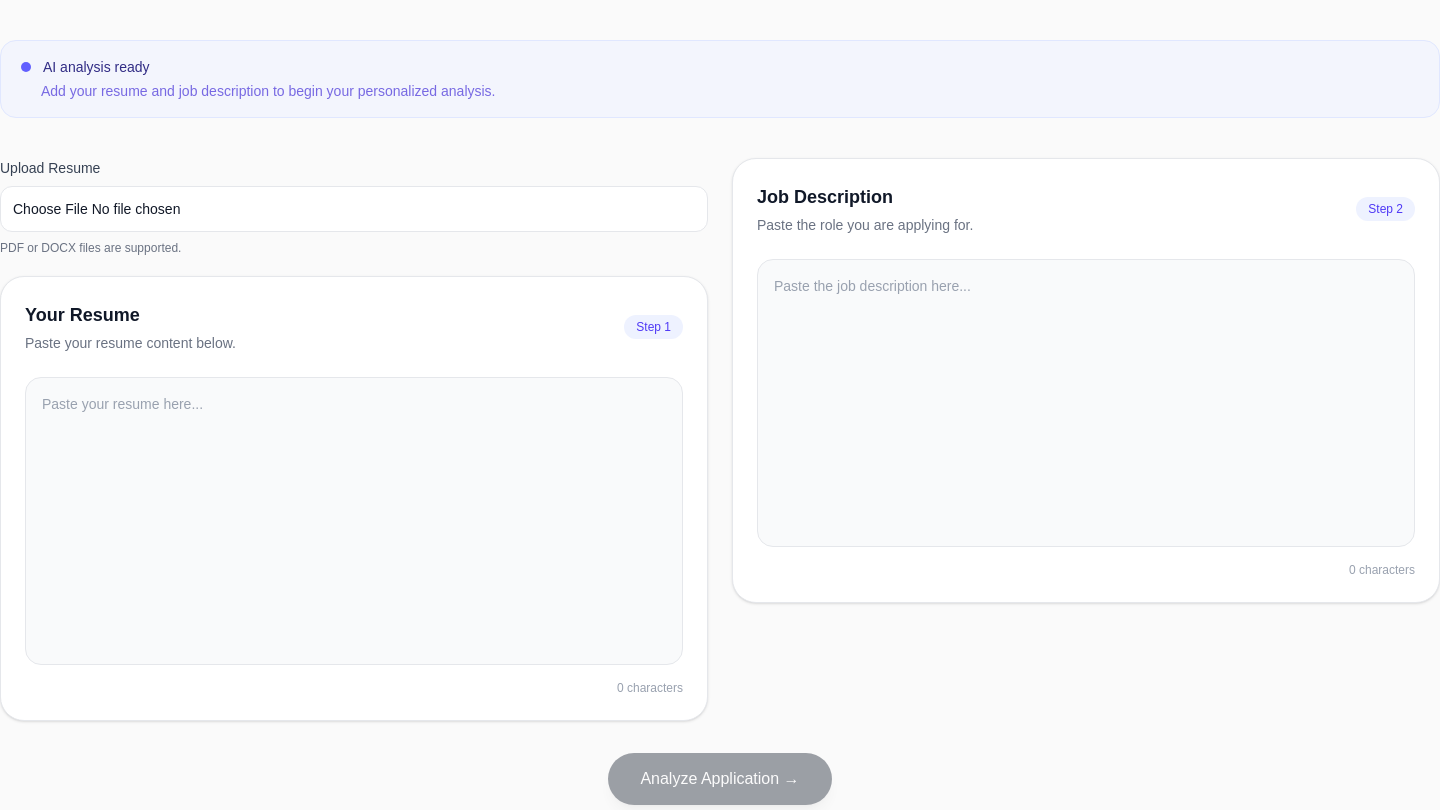
Test: ApplicationForm › shows AI analysis results after successful API response
In the text box with placeholder "Paste your resume here...": (354, 521) [25,377,683,665], type "React developer with TypeScript experience."
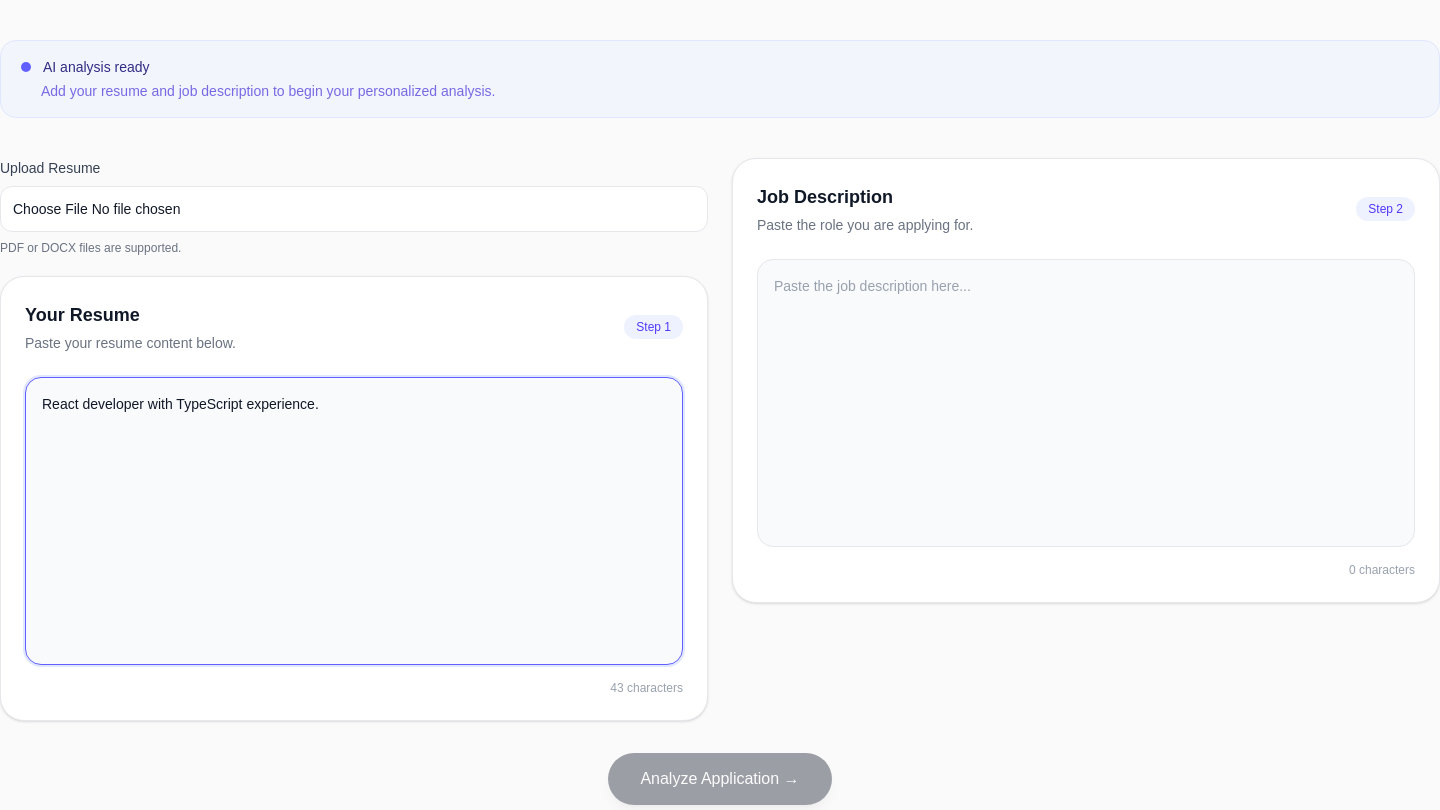
In the text box with placeholder "Paste the job description here...": (1086, 403) [757,259,1415,547], type "Looking for a React developer."
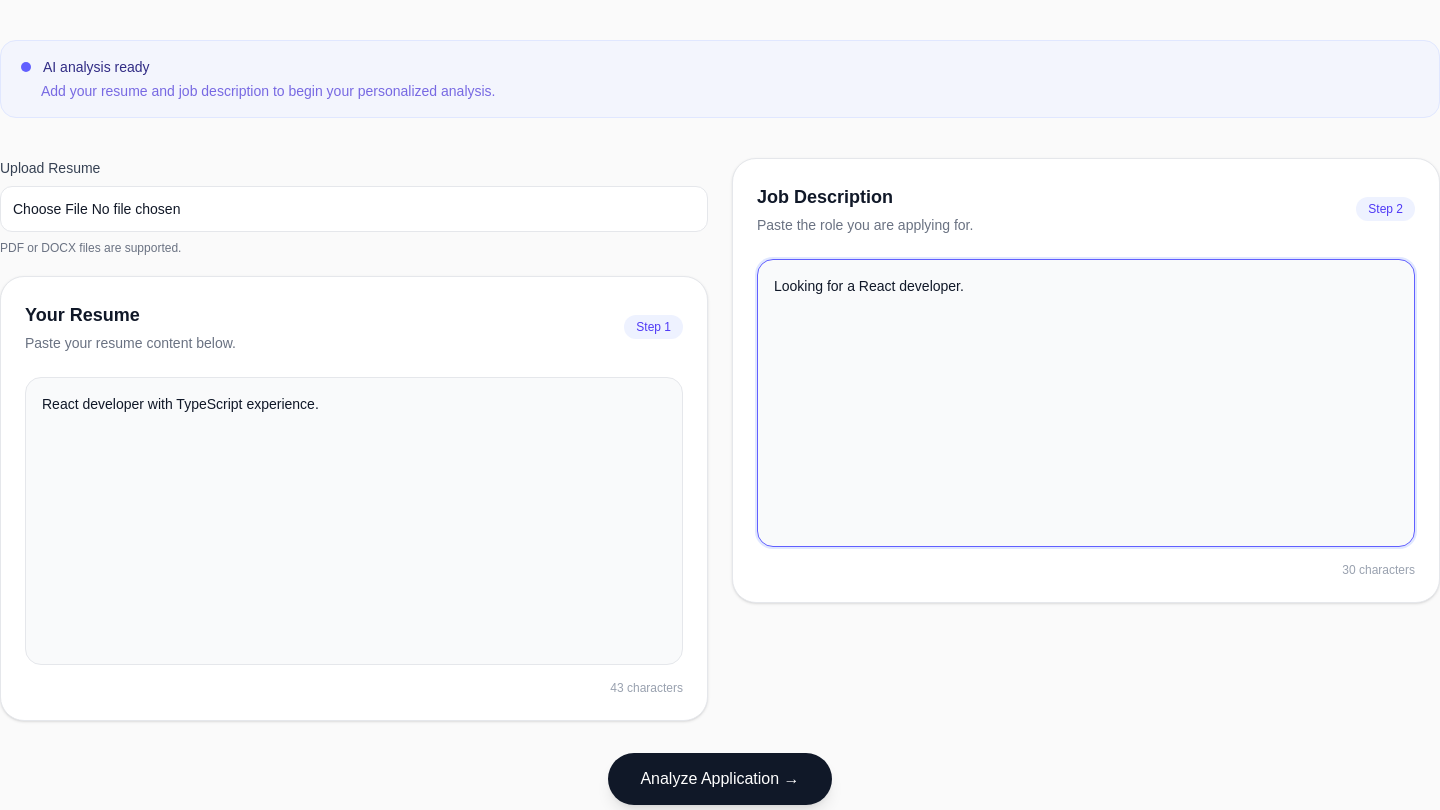
Click the button "Analyze Application →": (720, 779) [608,753,832,805]
(page scrolled)
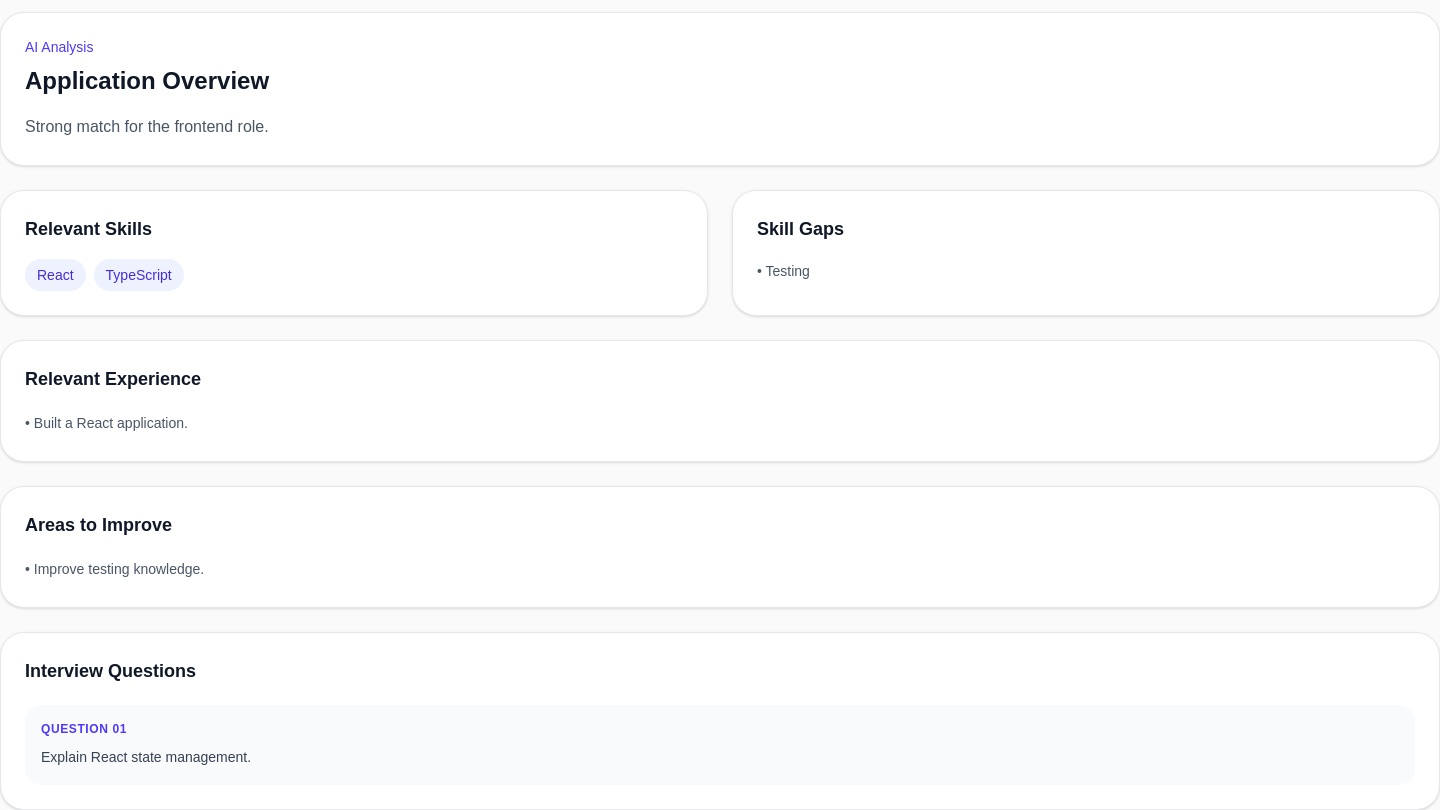
Expected: the heading "Application Overview" is shown, [25,67,269,94]
Expected: the text "Strong match for the frontend role." is shown, [25,118,269,135]
Expected: the text "React" is shown, [25,259,86,291]
